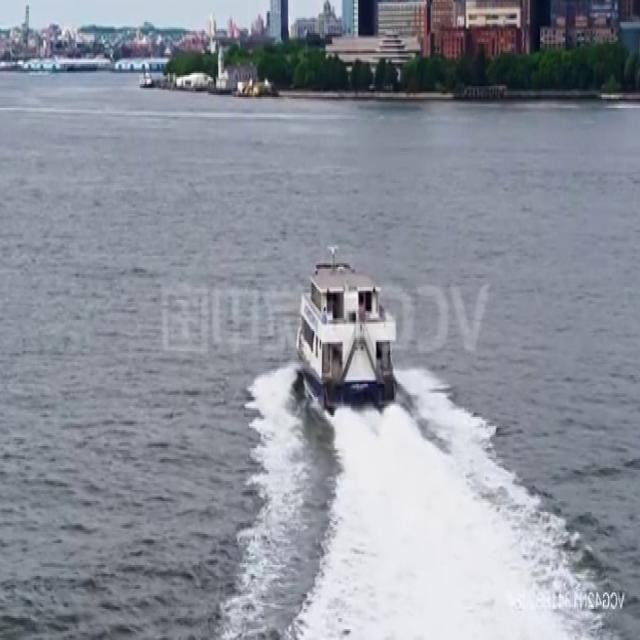houseboat: (295, 251, 400, 419)
